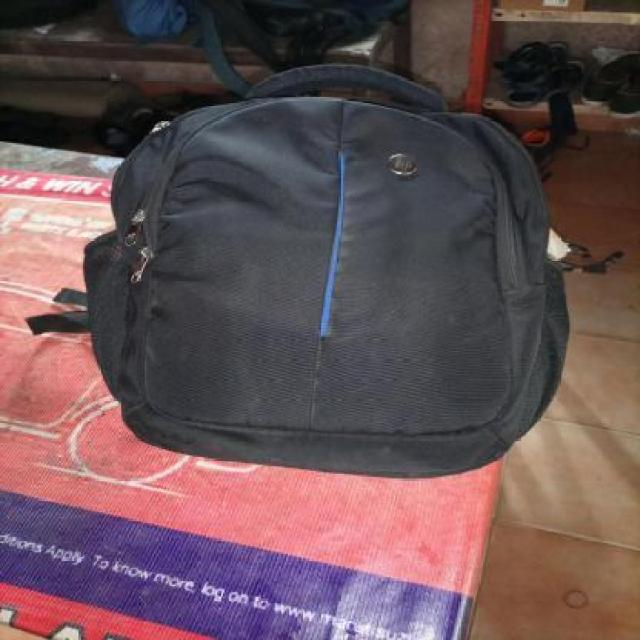backpack: (77, 52, 575, 486)
